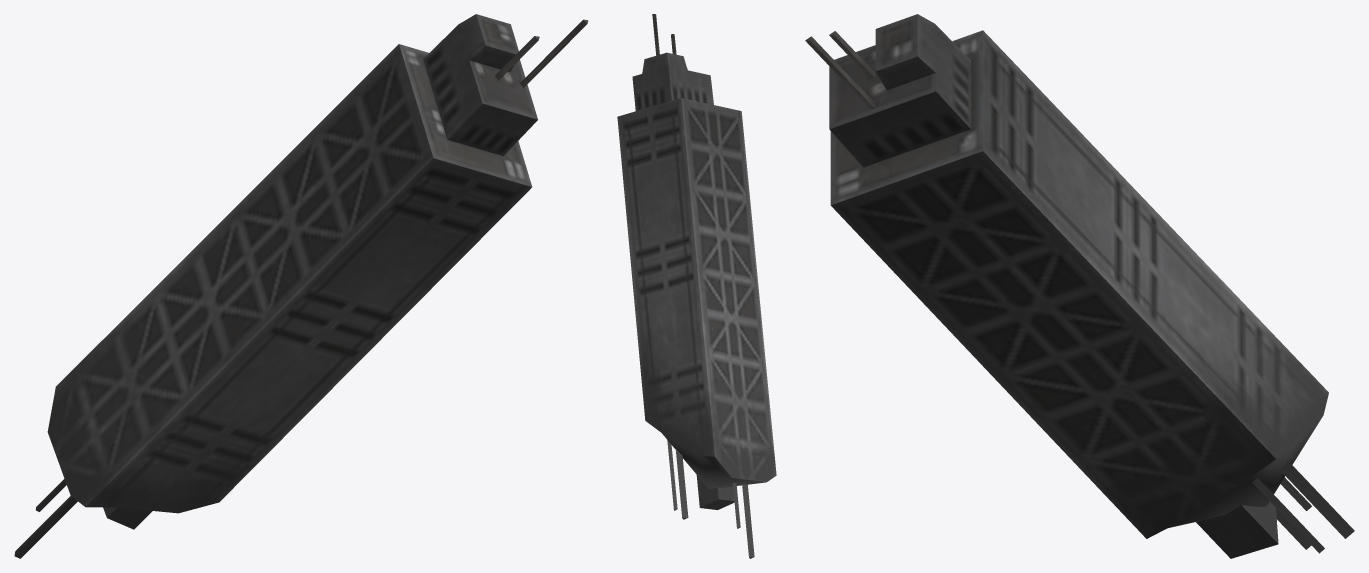
Rendered from skyBuildingAAA_pos_grp (13).fbx.
The picture shows the model from 3 angles, left to right: view 1: azimuth 30°, elevation 25°; view 2: azimuth 150°, elevation 25°; view 3: azimuth 270°, elevation 25°; orthographic projection. The views are drawn at different scales.
Visible parts, largest first — view 1: skyBuildingAAA_geo; view 2: skyBuildingAAA_geo; view 3: skyBuildingAAA_geo.
Boxes of the visible parts, <box> form: skyBuildingAAA_geo: <box>14,14,588,558</box>; skyBuildingAAA_geo: <box>617,14,776,558</box>; skyBuildingAAA_geo: <box>805,14,1354,558</box>.
Bounding box in the file's own units: 6.82 × 10.77 × 7.45.
